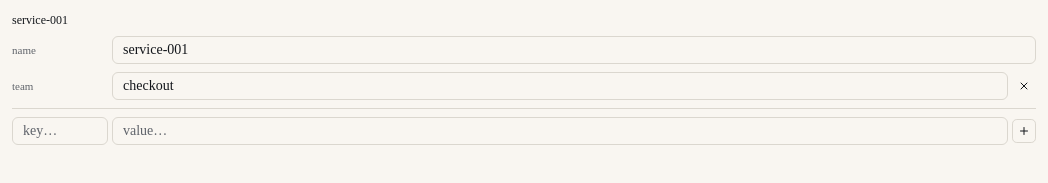
it: AttributesEditor › explains a key the rules do not allow instead of saving it
In the field named "New attribute key": (60, 131) [12, 117, 108, 145], type "bad key"
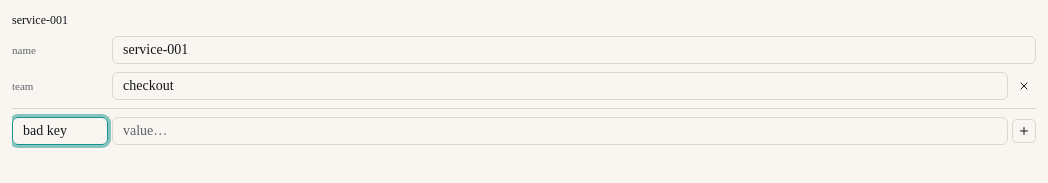
In the field named "New attribute value": (560, 131) [112, 117, 1008, 145], type "value"
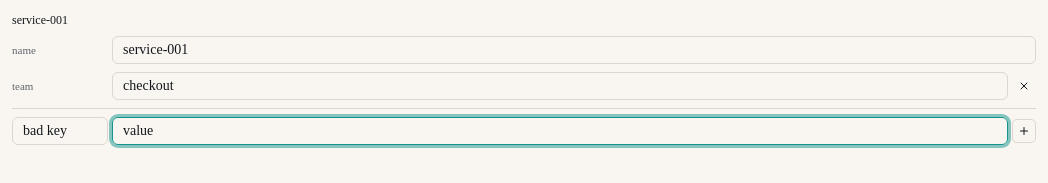
Click the button named "Add attribute": (1024, 131) [1012, 119, 1036, 143]
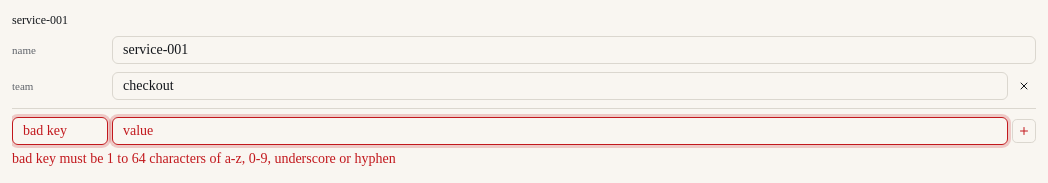
Now the text "bad key must be 1 to 64 characters of a-z, 0-9, underscore or hyphen" is shown, box [12, 151, 396, 166]
